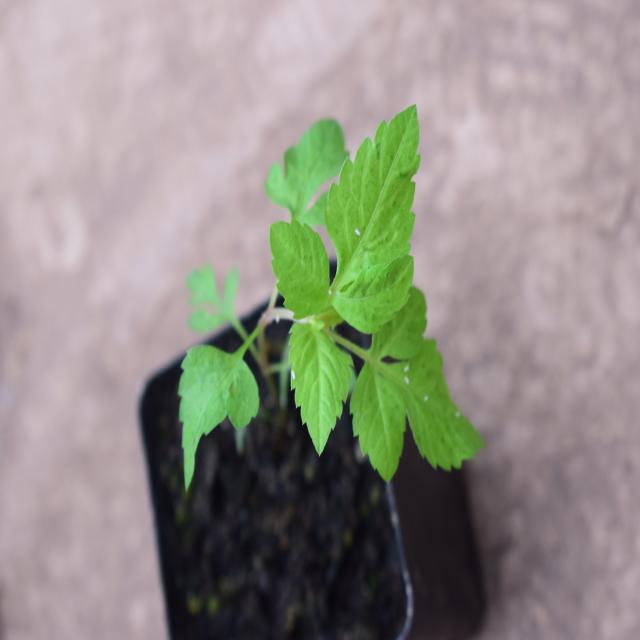Bidens pilosa: (152, 92, 492, 486)
